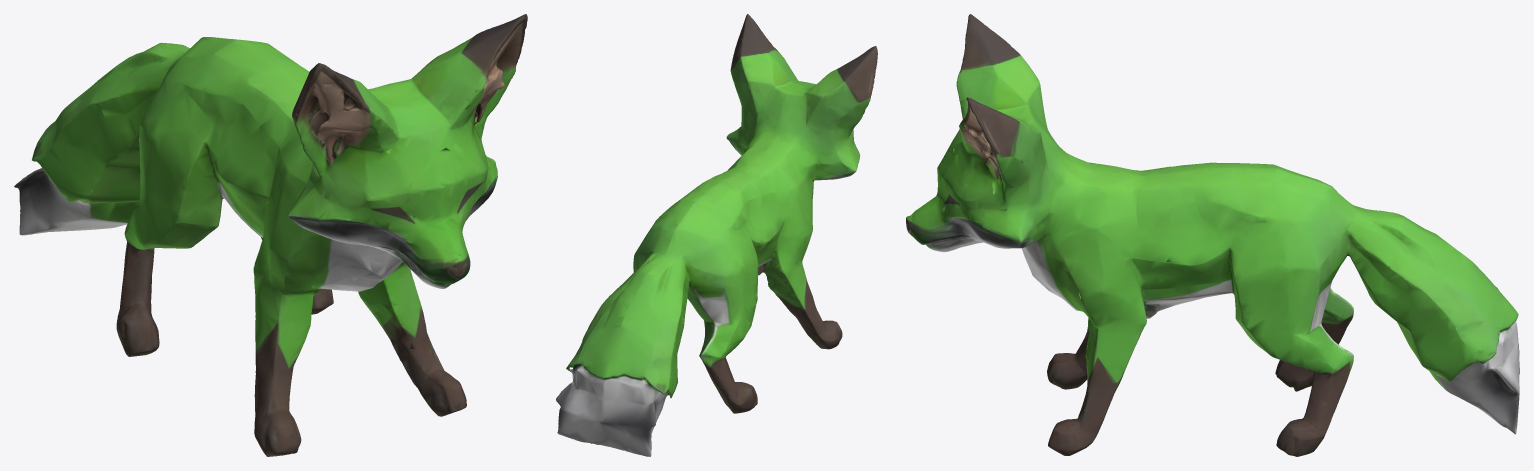
The model's file is klugger-zorro.glb.
3 views of the same model, side by side, from view 1: azimuth 30°, elevation 25°; view 2: azimuth 150°, elevation 25°; view 3: azimuth 270°, elevation 25° (orthographic). The views are drawn at different scales.
Bounding box in the file's own units: 0.6924 × 1.31 × 2.
1 material, 1 textured.
